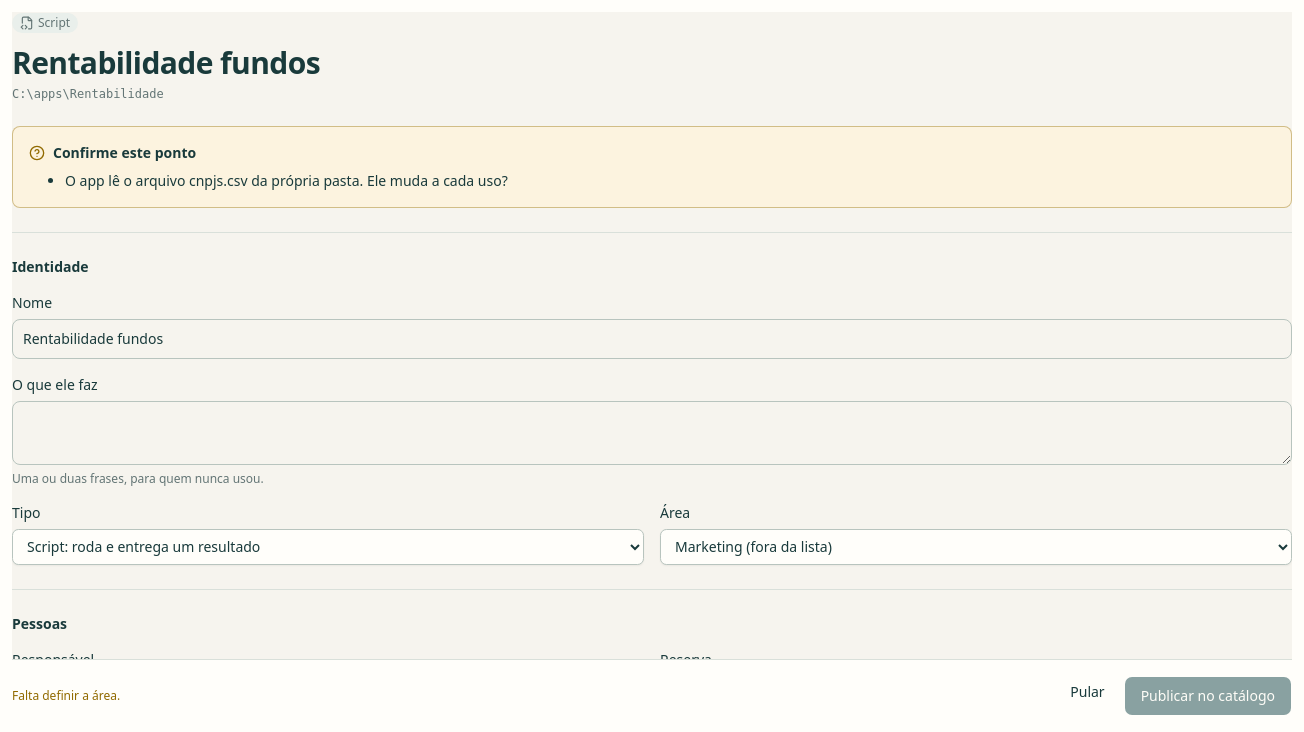
Scenario: ReviewForm › blocks publishing until the area comes from the list
Expected: the text "Falta definir a área." is shown, [12,688,120,704]
Select "Research" in the dropdown labelled "Área" at x=976, y=546, box [660,528,1292,564]
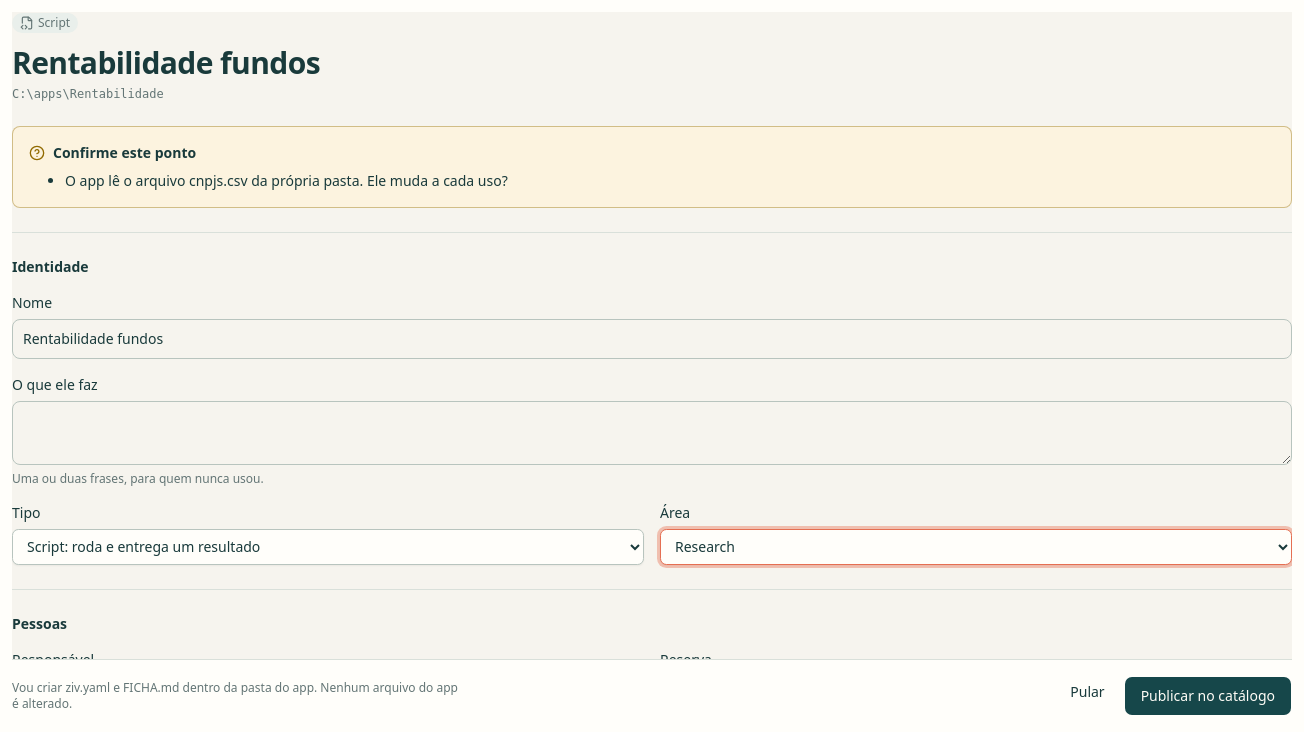
Now the text "Falta definir" is gone
